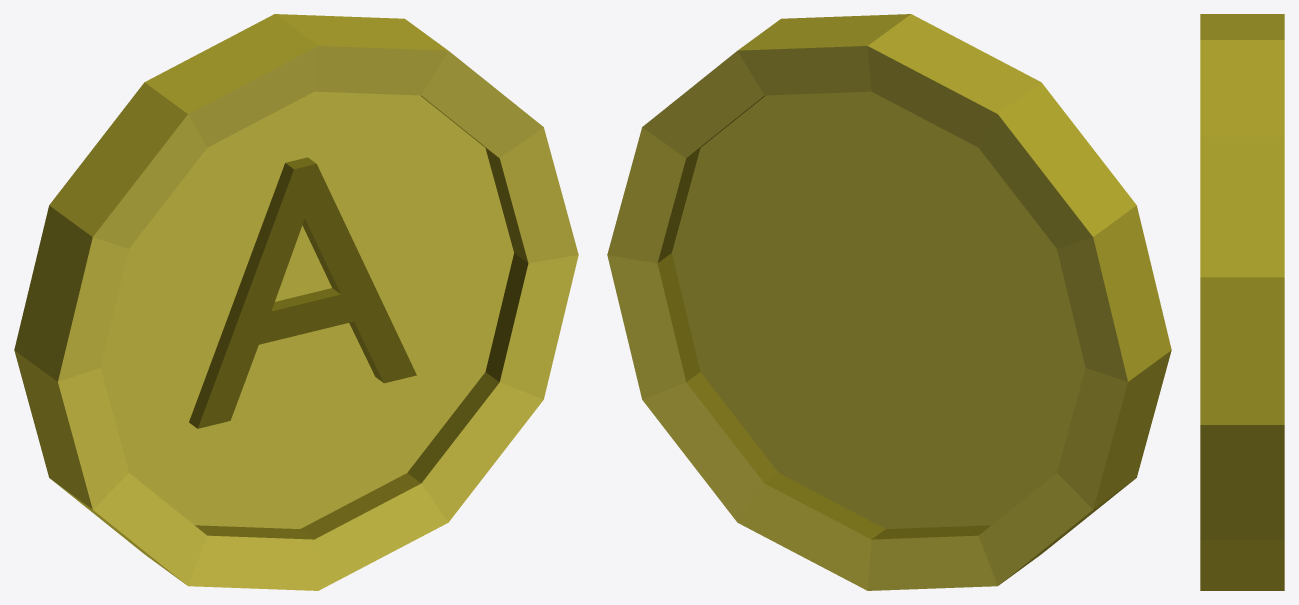
Rendered from coin.fbx.
3 renders of one model, left to right at view 1: azimuth 30°, elevation 25°; view 2: azimuth 150°, elevation 25°; view 3: azimuth 270°, elevation 25°, orthographic. The views are drawn at different scales.
Visible parts, largest first — view 1: Text; view 2: Text; view 3: Text.
Boxes of the visible parts, x1,y1,x2,y2 form: Text: [14, 14, 578, 590]; Text: [607, 14, 1171, 590]; Text: [1200, 14, 1284, 590].
Bounding box in the file's own units: 200 × 200 × 29.02.
Materials: 1 (1 with a texture image).
